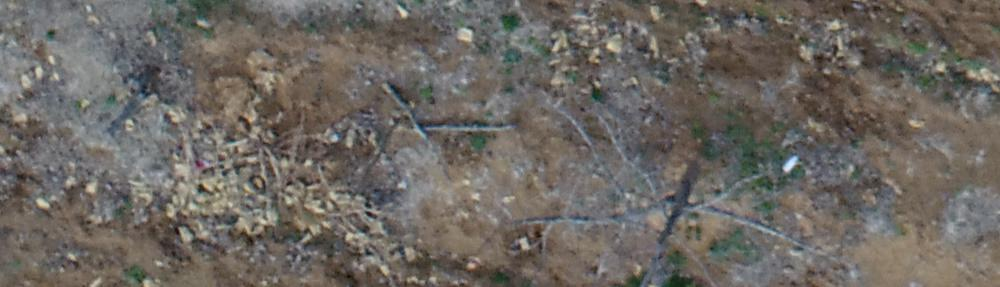apple: (516, 116, 800, 275)
